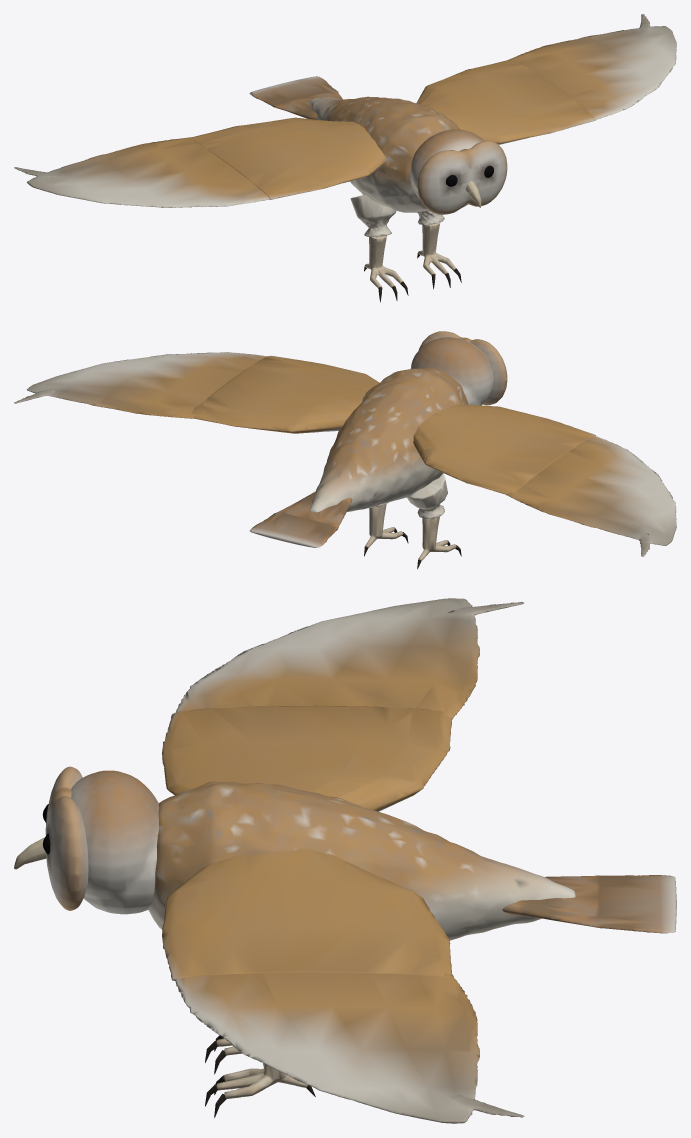
File: barn_owl.glb
The picture shows the model from 3 angles, top to bottom: view 1: azimuth 30°, elevation 25°; view 2: azimuth 150°, elevation 25°; view 3: azimuth 270°, elevation 25°; orthographic projection. The views are drawn at different scales.
Visible parts, largest first — view 1: ow_handN_mesh, ow_armN_mesh, ow_handP_mesh, ow_armP_mesh, ow_body_mesh, ow_face_mesh, ow_tail_mesh, ow_head_mesh, ow_upN_mesh, ow_lowN_mesh, ow_lowP_mesh; view 2: ow_body_mesh, ow_handN_mesh, ow_armN_mesh, ow_armP_mesh, ow_handP_mesh, ow_head_mesh, ow_tail_mesh, ow_face_mesh, ow_upN_mesh, ow_lowN_mesh, ow_lowP_mesh; view 3: ow_handP_mesh, ow_armP_mesh, ow_body_mesh, ow_handN_mesh, ow_armN_mesh, ow_head_mesh, ow_tail_mesh, ow_face_mesh, ow_lowP_mesh.
Part boxes in pixels (bbox=[...]): ow_handN_mesh: bbox=[14, 137, 269, 207]; ow_armN_mesh: bbox=[191, 117, 386, 199]; ow_handP_mesh: bbox=[507, 14, 676, 119]; ow_armP_mesh: bbox=[416, 59, 595, 144]; ow_body_mesh: bbox=[310, 96, 459, 212]; ow_face_mesh: bbox=[417, 140, 507, 214]; ow_tail_mesh: bbox=[249, 76, 342, 119]; ow_head_mesh: bbox=[410, 129, 483, 207]; ow_upN_mesh: bbox=[350, 195, 396, 237]; ow_lowN_mesh: bbox=[365, 235, 402, 288]; ow_lowP_mesh: bbox=[418, 222, 456, 275]; ow_body_mesh: bbox=[309, 368, 468, 512]; ow_handN_mesh: bbox=[507, 436, 676, 556]; ow_armN_mesh: bbox=[413, 404, 595, 495]; ow_armP_mesh: bbox=[191, 355, 379, 433]; ow_handP_mesh: bbox=[14, 352, 267, 418]; ow_head_mesh: bbox=[410, 337, 493, 405]; ow_tail_mesh: bbox=[249, 491, 352, 547]; ow_face_mesh: bbox=[419, 331, 507, 405]; ow_upN_mesh: bbox=[407, 473, 447, 519]; ow_lowN_mesh: bbox=[418, 516, 456, 560]; ow_lowP_mesh: bbox=[364, 504, 403, 548]; ow_handP_mesh: bbox=[175, 972, 524, 1123]; ow_armP_mesh: bbox=[162, 848, 452, 980]; ow_body_mesh: bbox=[148, 781, 575, 940]; ow_handN_mesh: bbox=[175, 598, 523, 718]; ow_armN_mesh: bbox=[162, 705, 452, 811]; ow_head_mesh: bbox=[71, 770, 159, 914]; ow_tail_mesh: bbox=[502, 875, 676, 933]; ow_face_mesh: bbox=[45, 766, 88, 910]; ow_lowP_mesh: bbox=[216, 1063, 307, 1098].
Bounding box in the file's own units: 0.961 × 0.2629 × 0.5146.
